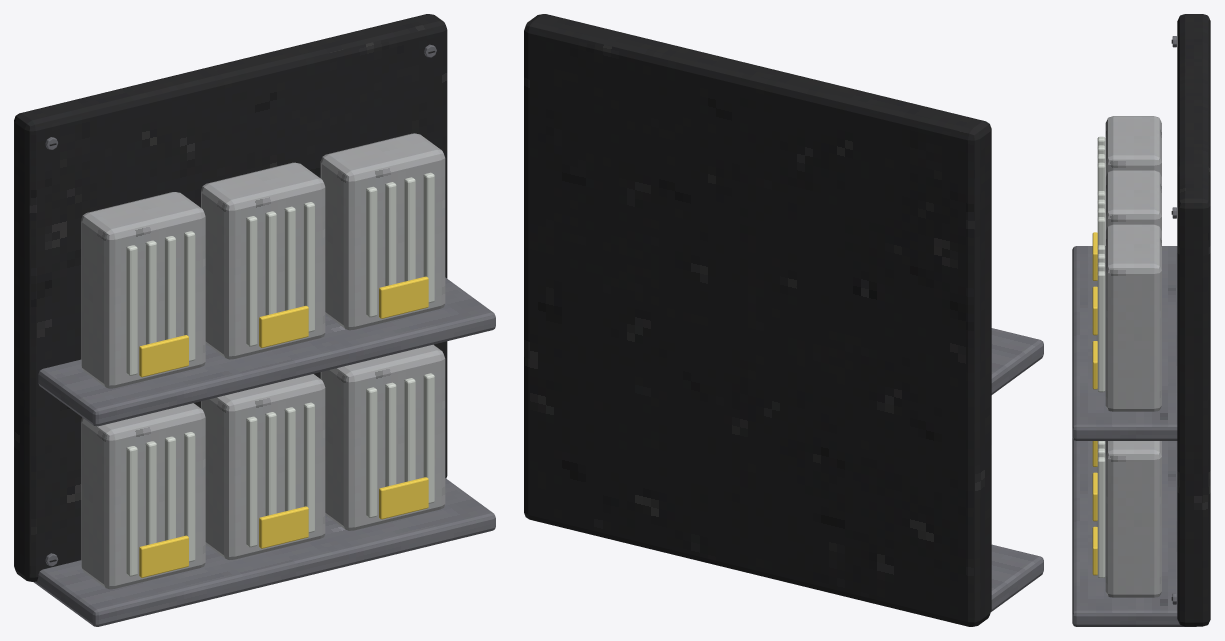
Rendered from lbd_eng_filter_rack.glb.
The picture shows the model from 3 angles, left to right: view 1: azimuth 30°, elevation 25°; view 2: azimuth 150°, elevation 25°; view 3: azimuth 270°, elevation 25°; orthographic projection. The views are drawn at different scales.
Parts seen in each view (by area): view 1: eng_filter_rack__mount_003, eng_filter_rack__rack shelf_022, eng_filter_rack__rack shelf_079, eng_filter_rack__filter frame_082, eng_filter_rack__filter frame_118, eng_filter_rack__filter frame_100, eng_filter_rack__filter frame_025, eng_filter_rack__filter frame_061, eng_filter_rack__filter frame_043, eng_filter_rack__inspection tag_040, eng_filter_rack__inspection tag_115, eng_filter_rack__inspection tag_058 (+27 smaller); view 2: eng_filter_rack__mount_003, eng_filter_rack__rack shelf_022, eng_filter_rack__rack shelf_079; view 3: eng_filter_rack__mount_003, eng_filter_rack__filter frame_118, eng_filter_rack__rack shelf_079, eng_filter_rack__rack shelf_022, eng_filter_rack__filter frame_061, eng_filter_rack__filter frame_082, eng_filter_rack__filter frame_100, eng_filter_rack__filter pleat_130, eng_filter_rack__filter pleat_073, eng_filter_rack__inspection tag_058, eng_filter_rack__inspection tag_076, eng_filter_rack__inspection tag_115 (+4 smaller).
Boxes of the visible parts, box(x1,y1,x2,y2) form: eng_filter_rack__mount_003: box(14, 14, 447, 581); eng_filter_rack__rack shelf_022: box(33, 478, 495, 626); eng_filter_rack__rack shelf_079: box(38, 277, 495, 426); eng_filter_rack__filter frame_082: box(81, 192, 205, 388); eng_filter_rack__filter frame_118: box(320, 133, 445, 330); eng_filter_rack__filter frame_100: box(201, 162, 325, 359); eng_filter_rack__filter frame_025: box(81, 403, 205, 589); eng_filter_rack__filter frame_061: box(320, 344, 445, 530); eng_filter_rack__filter frame_043: box(201, 374, 325, 559); eng_filter_rack__inspection tag_040: box(139, 535, 188, 577); eng_filter_rack__inspection tag_115: box(259, 305, 308, 347); eng_filter_rack__inspection tag_058: box(259, 506, 308, 548); eng_filter_rack__mount_003: box(524, 14, 991, 626); eng_filter_rack__rack shelf_022: box(991, 544, 1043, 611); eng_filter_rack__rack shelf_079: box(991, 328, 1043, 394); eng_filter_rack__mount_003: box(1177, 14, 1210, 626); eng_filter_rack__filter frame_118: box(1105, 224, 1161, 411); eng_filter_rack__rack shelf_079: box(1072, 246, 1177, 440); eng_filter_rack__rack shelf_022: box(1072, 438, 1196, 626); eng_filter_rack__filter frame_061: box(1105, 441, 1161, 597); eng_filter_rack__filter frame_082: box(1105, 116, 1161, 176); eng_filter_rack__filter frame_100: box(1105, 170, 1161, 230); eng_filter_rack__filter pleat_130: box(1097, 271, 1105, 392); eng_filter_rack__filter pleat_073: box(1097, 457, 1105, 577); eng_filter_rack__inspection tag_058: box(1092, 472, 1097, 521); eng_filter_rack__inspection tag_076: box(1092, 526, 1097, 575); eng_filter_rack__inspection tag_115: box(1092, 286, 1097, 335).
Bounding box in the file's own units: 0.88 × 0.9275 × 0.27.
Materials: 5 (3 with a texture image).
